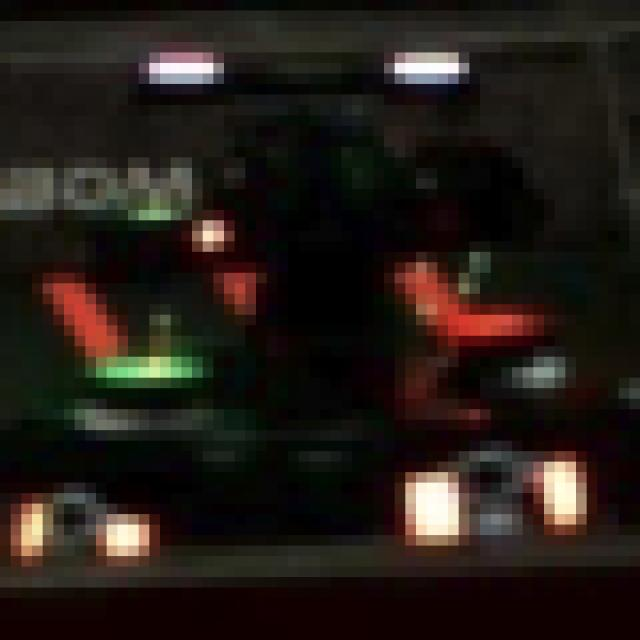Rs: (405, 462, 608, 556)
